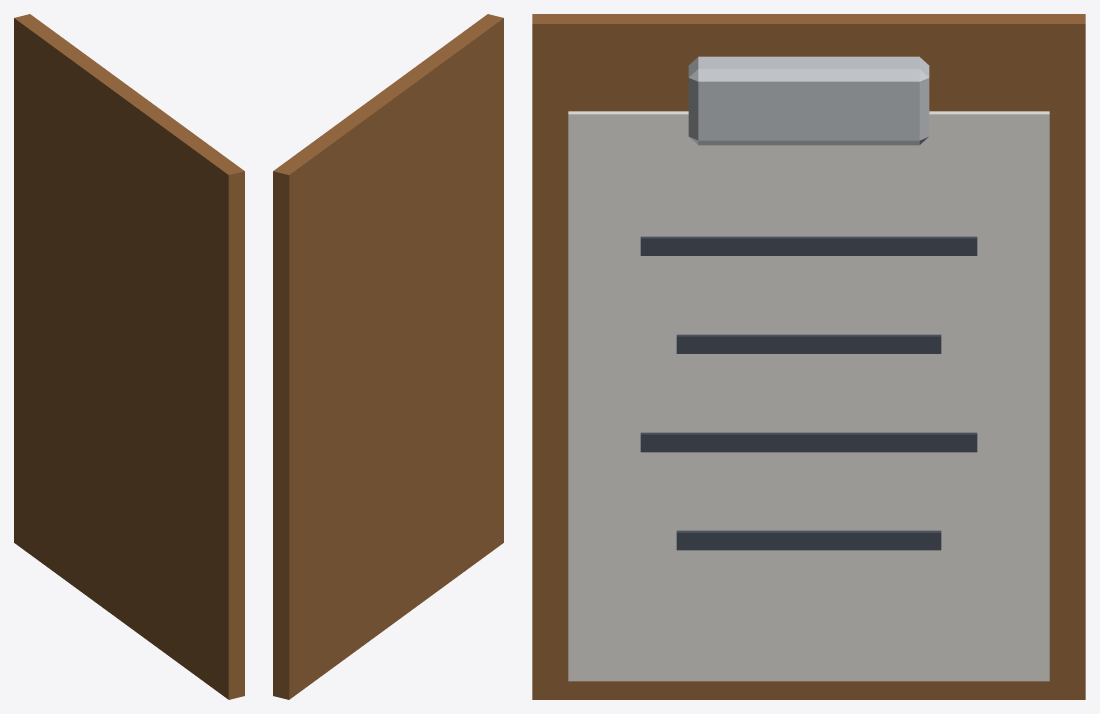
Rendered from prop_clipboard.glb.
3 renders of one model, left to right at view 1: azimuth 30°, elevation 25°; view 2: azimuth 150°, elevation 25°; view 3: azimuth 270°, elevation 25°, orthographic. The views are drawn at different scales.
Visible parts, largest first — view 1: PropClipboard; view 2: PropClipboard; view 3: PropClipboard.
Part boxes in pixels (x1,y1,x2,y2): PropClipboard: (14, 14, 244, 699); PropClipboard: (273, 14, 503, 699); PropClipboard: (532, 14, 1085, 699).
Size of the model in its own units: 0.027 by 0.31 by 0.23.
